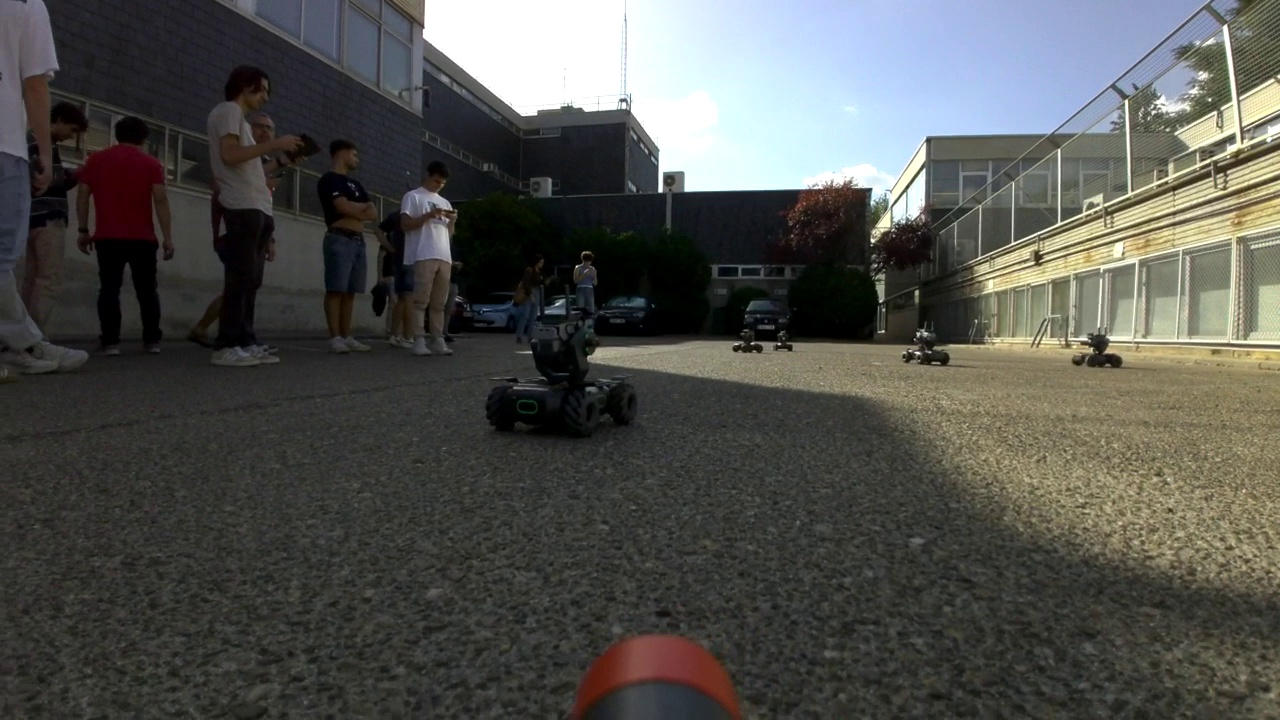robot: (487, 285, 642, 434), (901, 317, 951, 366), (1072, 325, 1123, 369), (731, 324, 763, 353), (771, 328, 794, 355)
